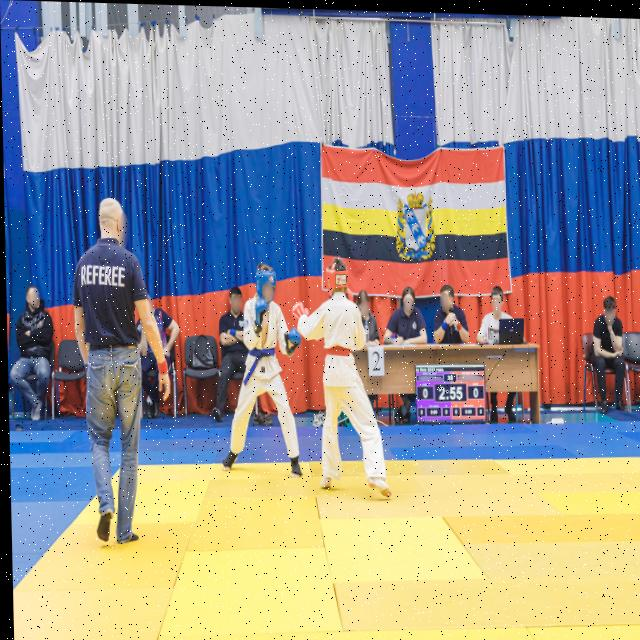Person: (80, 181, 155, 558), (234, 256, 297, 493), (319, 248, 364, 500), (10, 279, 60, 441), (209, 283, 253, 430), (585, 283, 631, 412), (473, 276, 522, 353), (386, 280, 434, 350), (430, 274, 469, 349), (351, 284, 379, 349)
